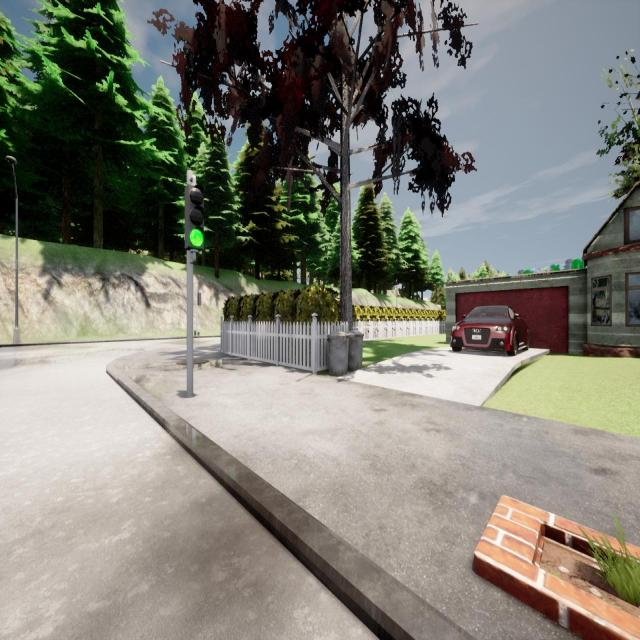Vehicle: (450, 305, 529, 355)
traffic_light: (184, 185, 208, 251), (197, 292, 202, 306)
